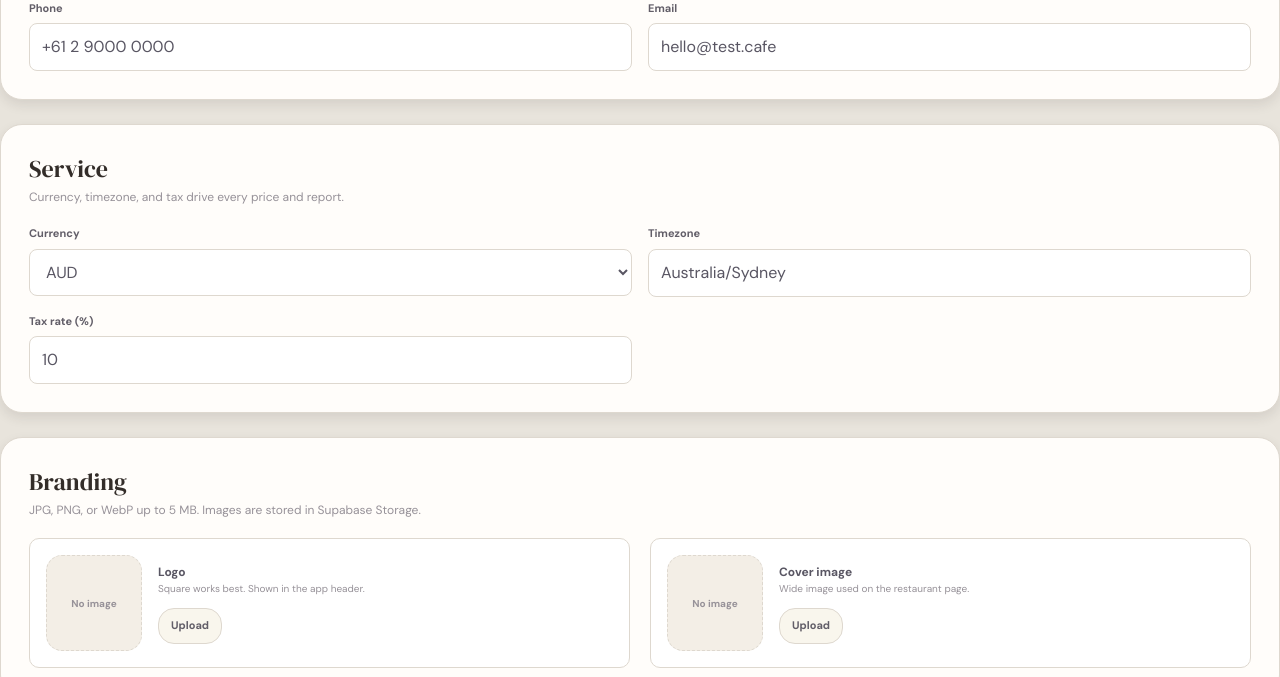
it: SettingsPage › shows a validation error instead of saving an invalid tax rate
(page scrolled)
Replace the text in the number field labelled "Tax rate (%)" with "150": (330, 360) top-left (29, 336), bottom-right (632, 384)
(page scrolled)
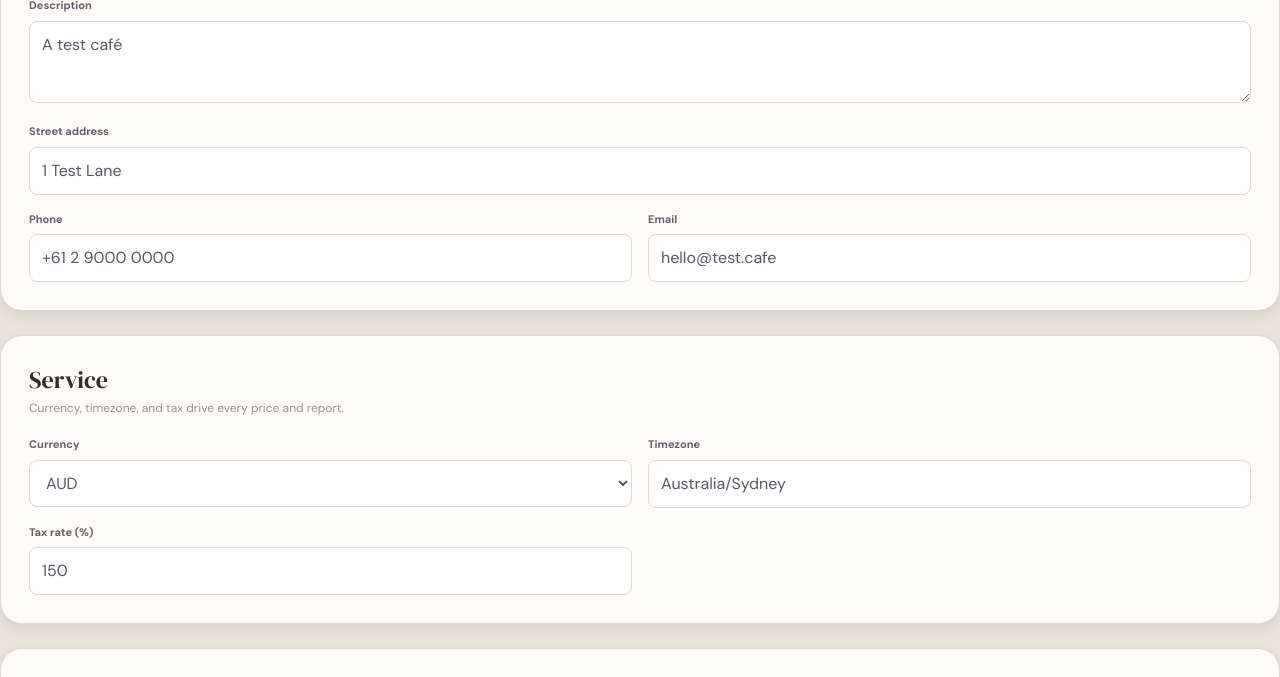
Submit the form named "save changes"
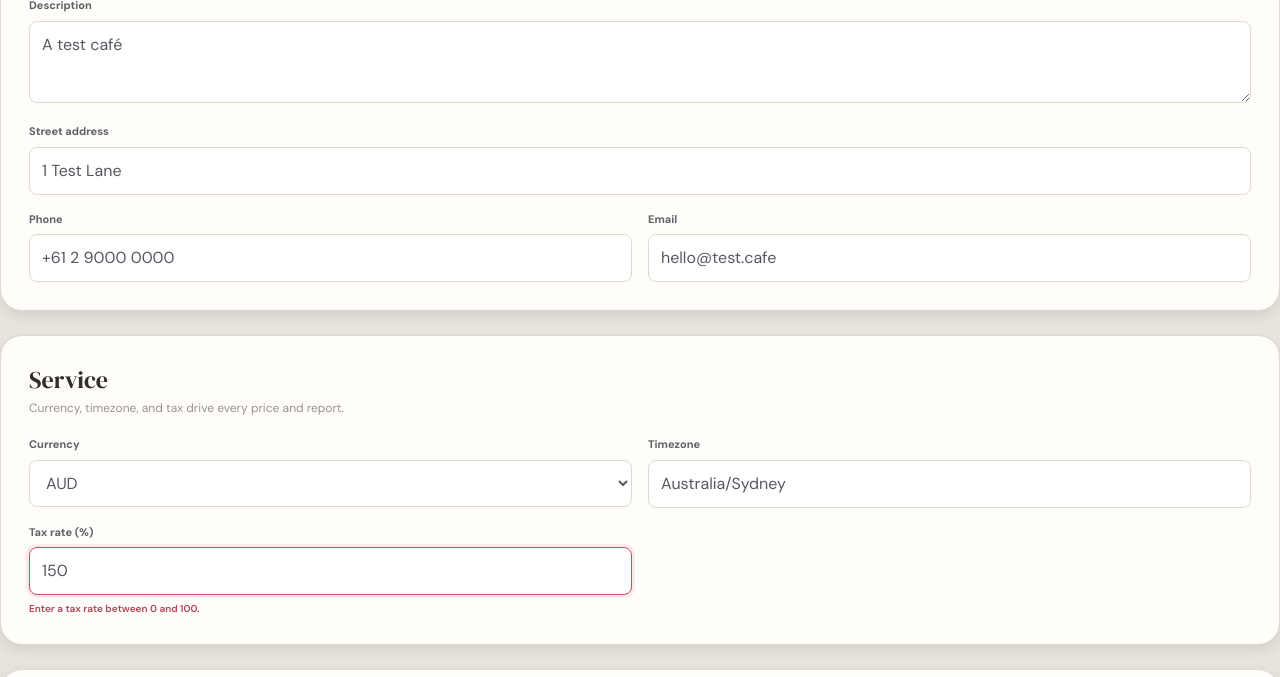
Now the text "Enter a tax rate between 0 and 100." is shown, box top-left (29, 602), bottom-right (200, 615)
